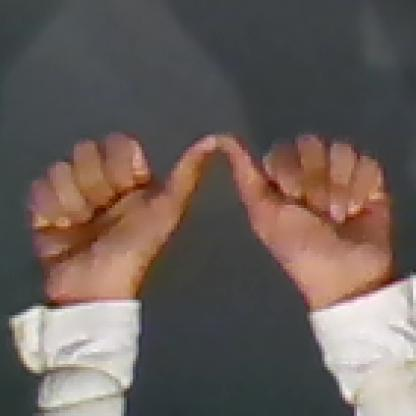A: (20, 126, 409, 290)
